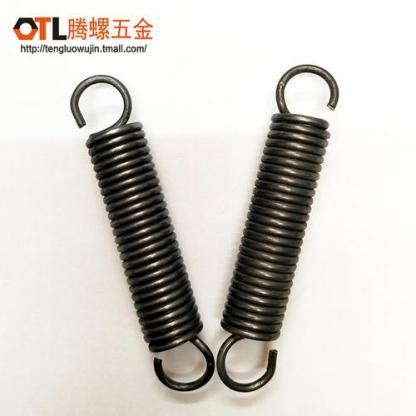FOD: (64, 72, 217, 394), (216, 62, 340, 393)
